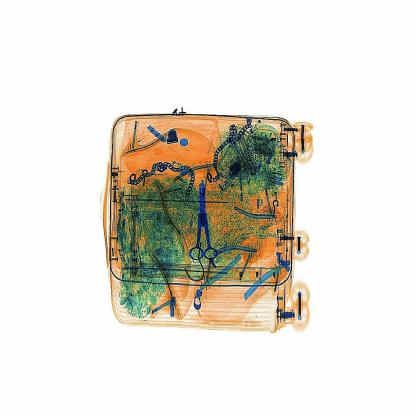gun: (183, 172, 231, 280)
